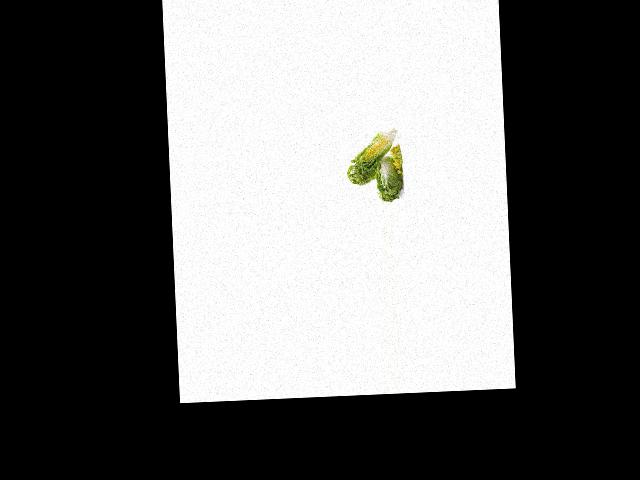lettuce: (373, 149, 406, 201)
